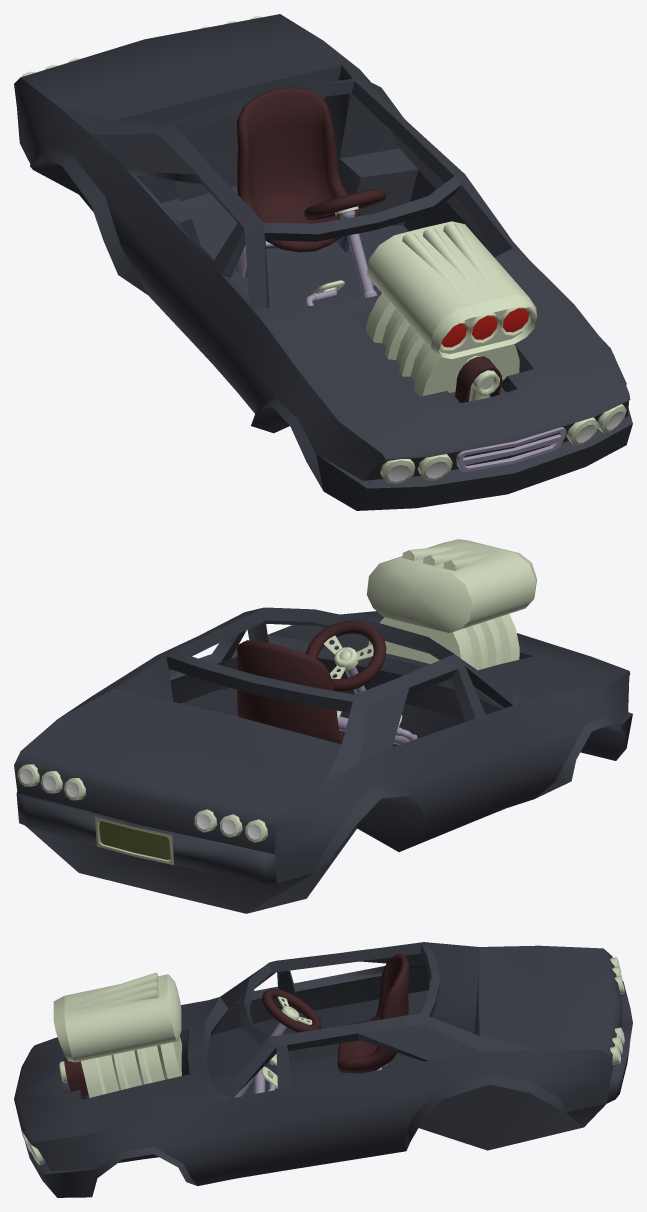
File: MuscleCar_Body.fbx
3 renders of one model, top to bottom at view 1: azimuth 30°, elevation 25°; view 2: azimuth 150°, elevation 25°; view 3: azimuth 270°, elevation 25°, orthographic. The views are drawn at different scales.
Parts seen in each view (by area): view 1: MuscleCar, MuscleCar_Headlights; view 2: MuscleCar, MuscleCar_Taillights; view 3: MuscleCar.
Boxes of the visible parts, bbox=[...] form: MuscleCar: bbox=[14, 14, 632, 510]; MuscleCar_Headlights: bbox=[387, 411, 623, 481]; MuscleCar: bbox=[14, 539, 632, 913]; MuscleCar_Taillights: bbox=[20, 768, 261, 839]; MuscleCar: bbox=[14, 942, 632, 1197].
Bounding box in the file's own units: 177 × 123 × 369.
